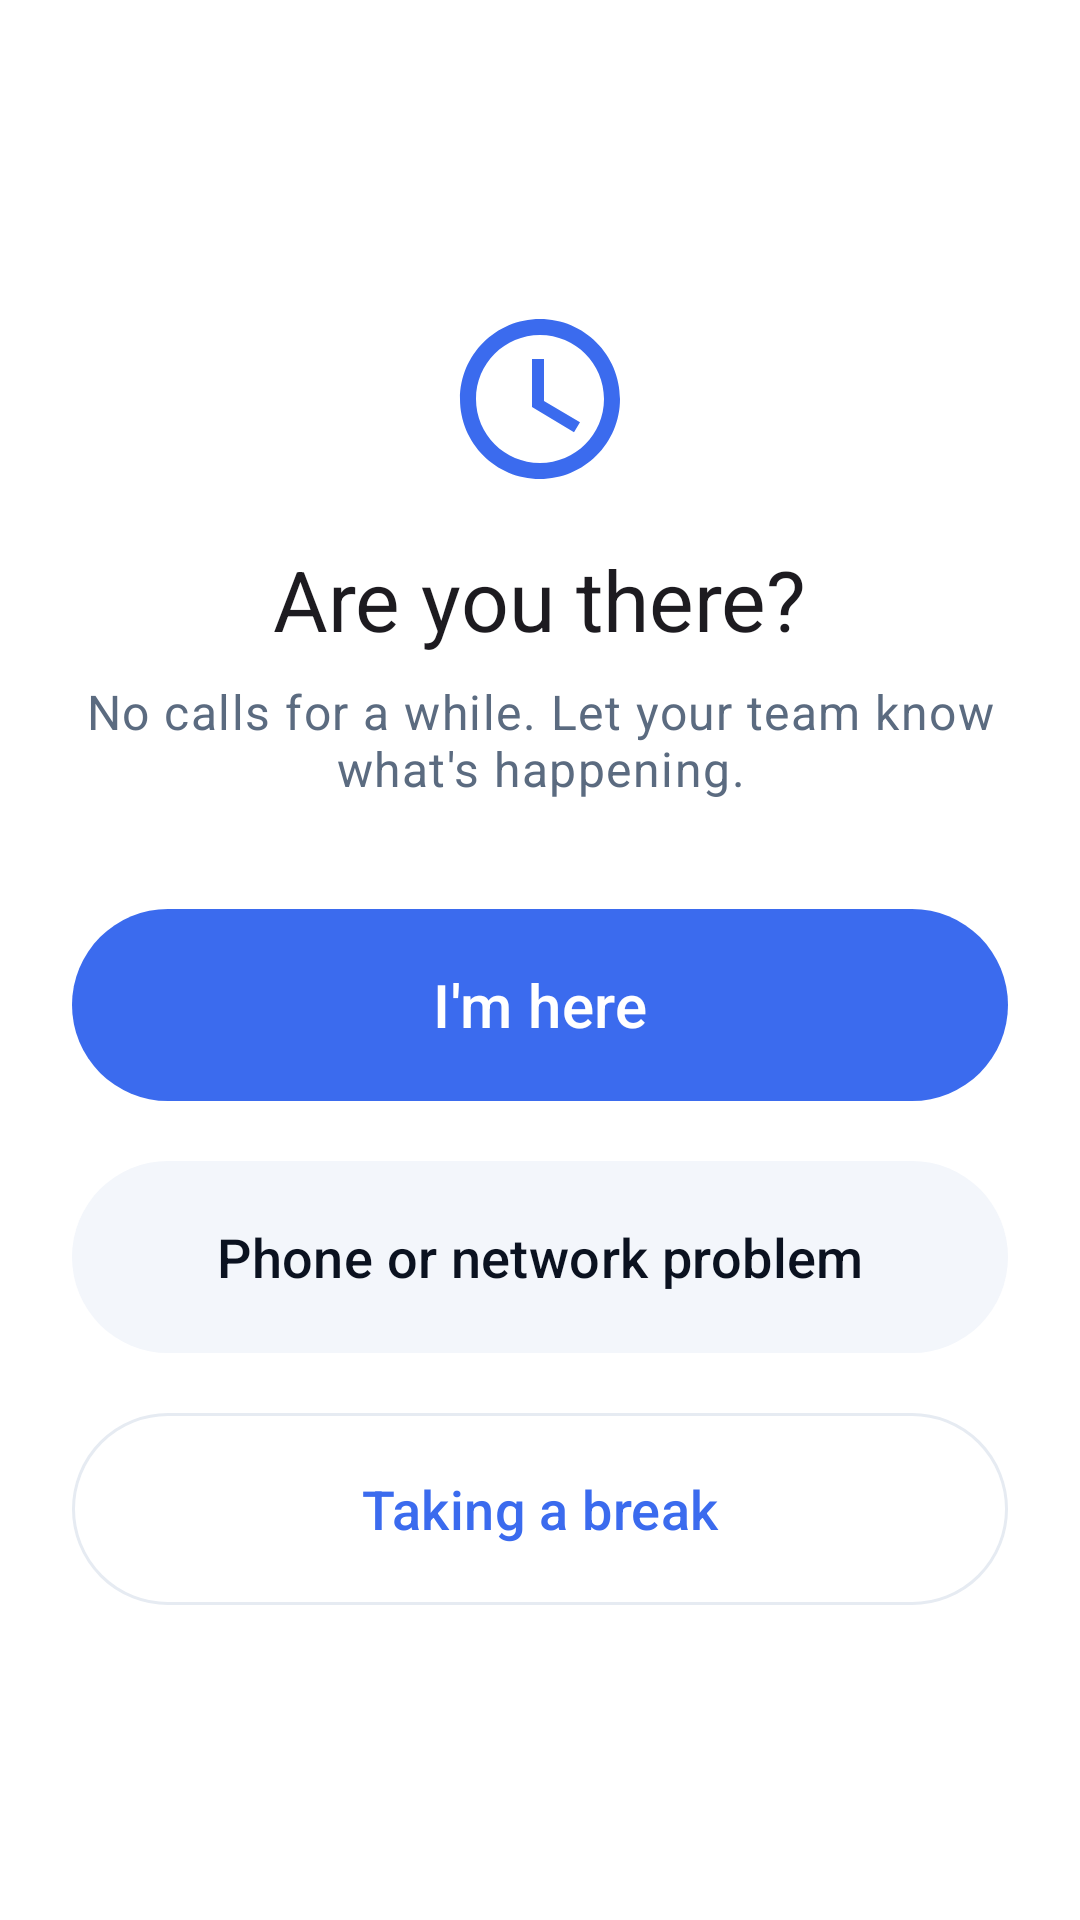

Screen size 1080*1920. Icon name, then its box in pixels as (x1, y1, x2, y2):
schedule: (460, 319, 620, 479)
